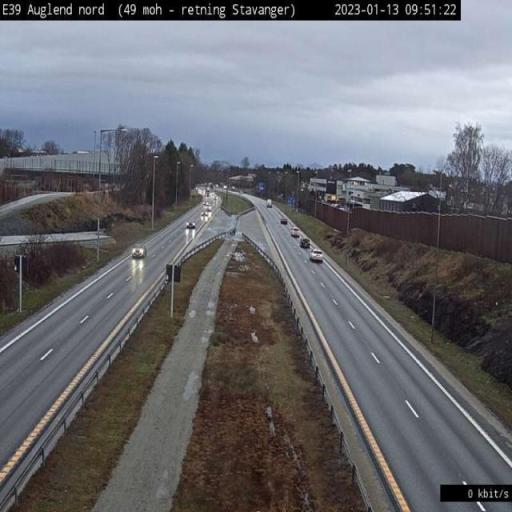vehicle: (310, 250, 324, 264)
